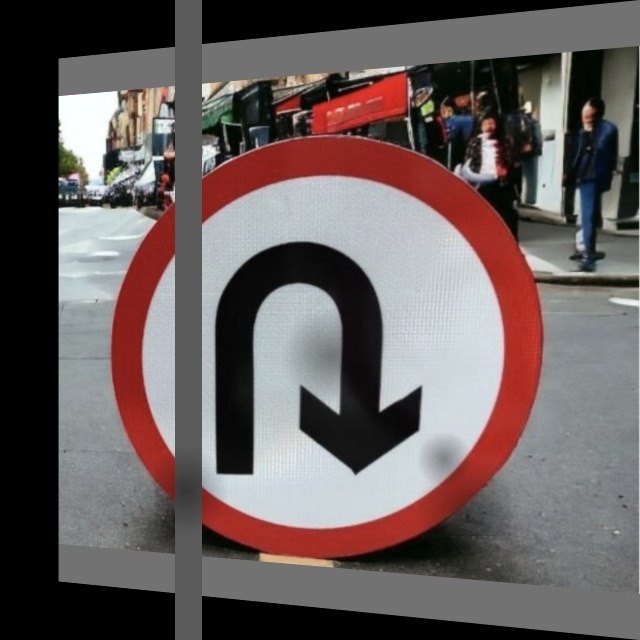U_Turn_Ahead: (155, 176, 511, 536)
